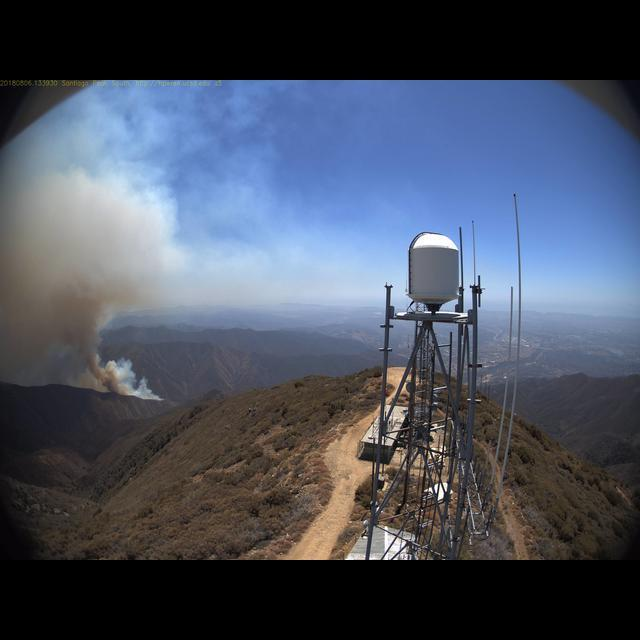Smoke: (0, 152, 163, 403)
